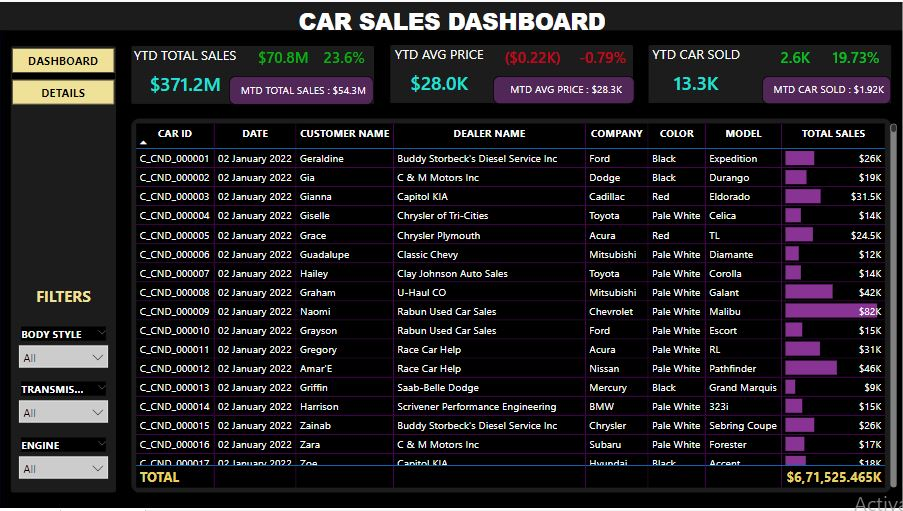

This screenshot's page, from the dashboard's own definition file:
{"tool":"powerbi","page":{"name":"DETAILS","canvas":[1280,720],"ordinal":1},"visuals":[{"type":"card","title":"YTD TOTAL SALES","fields":{"Values":["MEASURE TABLE.YTD TOTAL SALES"]},"box":[162.6,61.9,198.7,85.2],"z":0},{"type":"card","fields":{"Values":["MEASURE TABLE.SALES DIFFERENCE"]},"box":[332.9,58.1,136.8,42.6],"z":1000},{"type":"card","fields":{"Values":["MEASURE TABLE.YoY SALES GROWTH"]},"box":[419.4,58.1,136.8,42.6],"z":2000},{"type":"card","fields":{"Values":["MEASURE TABLE.MTD KPI"]},"box":[325.2,104.5,205.2,41.3],"z":3000},{"type":"card","title":"YTD AVG PRICE","fields":{"Values":["MEASURE TABLE.YTD AVG PRICE"]},"box":[522.6,60.6,198.7,85.2],"z":4000},{"type":"card","fields":{"Values":["MEASURE TABLE.AVG PRICE DIFF"]},"box":[686.5,58.1,136.8,42.6],"z":5000},{"type":"card","fields":{"Values":["MEASURE TABLE.YoY AVG PRICE GROWTH"]},"box":[784.5,58.1,136.8,42.6],"z":6000},{"type":"card","fields":{"Values":["MEASURE TABLE.MTD AVG PRICE KPI"]},"box":[698.1,104.5,201.3,40],"z":7000},{"type":"card","title":"YTD CAR SOLD","fields":{"Values":["MEASURE TABLE.YTD CAR SOLD"]},"box":[887.7,60.6,198.7,85.2],"z":8000},{"type":"card","fields":{"Values":["MEASURE TABLE.CAR SOLD DIFF"]},"box":[1058.1,58.1,136.8,42.6],"z":9000},{"type":"card","fields":{"Values":["MEASURE TABLE.YoY CAR SOLD GROWTH"]},"box":[1151,58.1,125.2,42.6],"z":10000},{"type":"card","fields":{"Values":["MEASURE TABLE.MTD CAR SOLD KPI"]},"box":[1080,104.5,183.2,40],"z":11000},{"type":"slicer","fields":{"Values":["car_data.Transmission"]},"box":[16.8,532.9,145.8,73.5],"z":13000},{"type":"slicer","fields":{"Values":["car_data.Body Style"]},"box":[16.8,455.5,145.8,74.8],"z":14000},{"type":"slicer","fields":{"Values":["car_data.Engine"]},"box":[16.8,612.9,145.8,72.3],"z":15000},{"type":"tableEx","fields":{"Values":["car_data.Car_id","car_data.Date","car_data.Customer Name","car_data.Dealer_Name","car_data.Company","car_data.Color","car_data.Model","car_data.Price ($)"]},"box":[187.1,167.7,1089,526.5],"z":16000},{"type":"textbox","box":[16.8,397.4,145.8,43.9],"z":17000},{"type":"pageNavigator","box":[16.8,64.5,145.8,80],"z":18000},{"type":"textbox","box":[411.8,0,456.4,58.1],"z":18001}]}

Visuals, with their boxes on the page's 1280x720 design canvas (x1, y1, x2, y2). These are canvas units, not pixel positions in the 903x511 screenshot, which may show the page scaled, cropped or inside an application window:
"YTD TOTAL SALES" card: [163, 62, 361, 147]
card - MEASURE TABLE.SALES DIFFERENCE: [333, 58, 470, 101]
card - MEASURE TABLE.YoY SALES GROWTH: [419, 58, 556, 101]
card - MEASURE TABLE.MTD KPI: [325, 104, 530, 146]
"YTD AVG PRICE" card: [523, 61, 721, 146]
card - MEASURE TABLE.AVG PRICE DIFF: [686, 58, 823, 101]
card - MEASURE TABLE.YoY AVG PRICE GROWTH: [784, 58, 921, 101]
card - MEASURE TABLE.MTD AVG PRICE KPI: [698, 104, 899, 144]
"YTD CAR SOLD" card: [888, 61, 1086, 146]
card - MEASURE TABLE.CAR SOLD DIFF: [1058, 58, 1195, 101]
card - MEASURE TABLE.YoY CAR SOLD GROWTH: [1151, 58, 1276, 101]
card - MEASURE TABLE.MTD CAR SOLD KPI: [1080, 104, 1263, 144]
slicer - car_data.Transmission: [17, 533, 163, 606]
slicer - car_data.Body Style: [17, 456, 163, 530]
slicer - car_data.Engine: [17, 613, 163, 685]
tableEx - car_data.Car_id x car_data.Date: [187, 168, 1276, 694]
textbox: [17, 397, 163, 441]
pageNavigator: [17, 64, 163, 144]
textbox: [412, 0, 868, 58]
